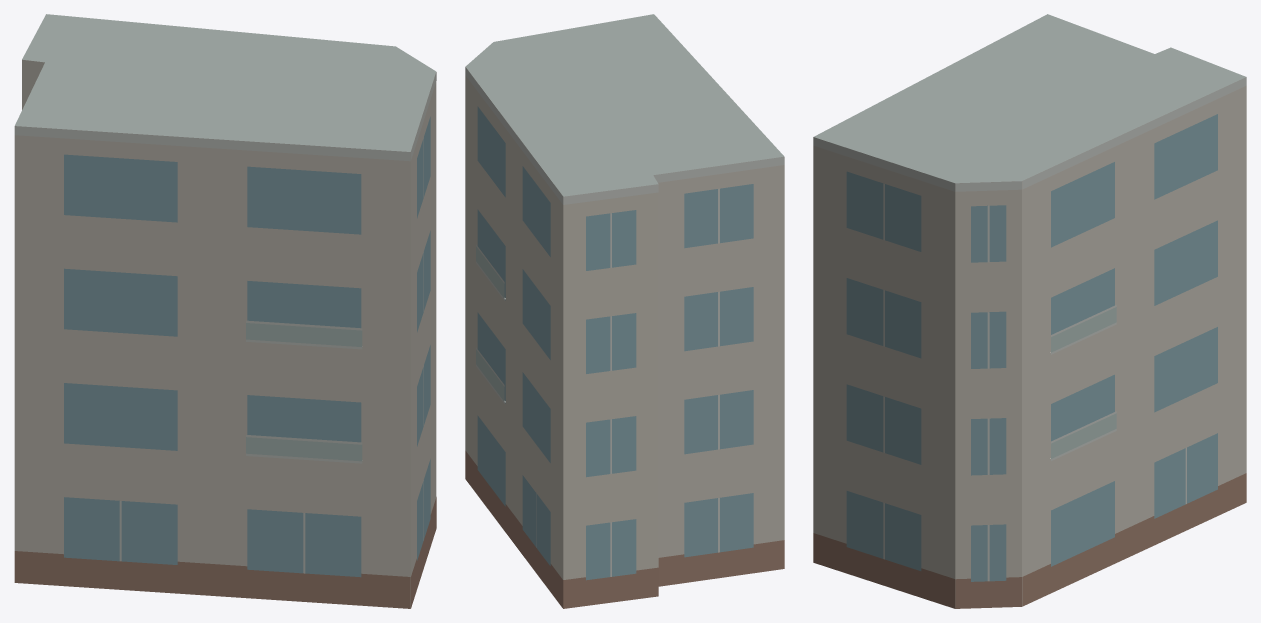
The model's file is survey-upis-32896486.glb.
The picture shows the model from 3 angles, left to right: view 1: azimuth 30°, elevation 25°; view 2: azimuth 150°, elevation 25°; view 3: azimuth 270°, elevation 25°; orthographic projection. The views are drawn at different scales.
Visible parts, largest first — view 1: survey-upis-32896486.tmp; view 2: survey-upis-32896486.tmp; view 3: survey-upis-32896486.tmp.
Boxes of the visible parts, x1,y1,x2,y2 form: survey-upis-32896486.tmp: (14, 14, 436, 608); survey-upis-32896486.tmp: (465, 14, 784, 608); survey-upis-32896486.tmp: (813, 14, 1246, 608).
Bounding box in the file's own units: 10.33 × 12.1 × 11.17.
